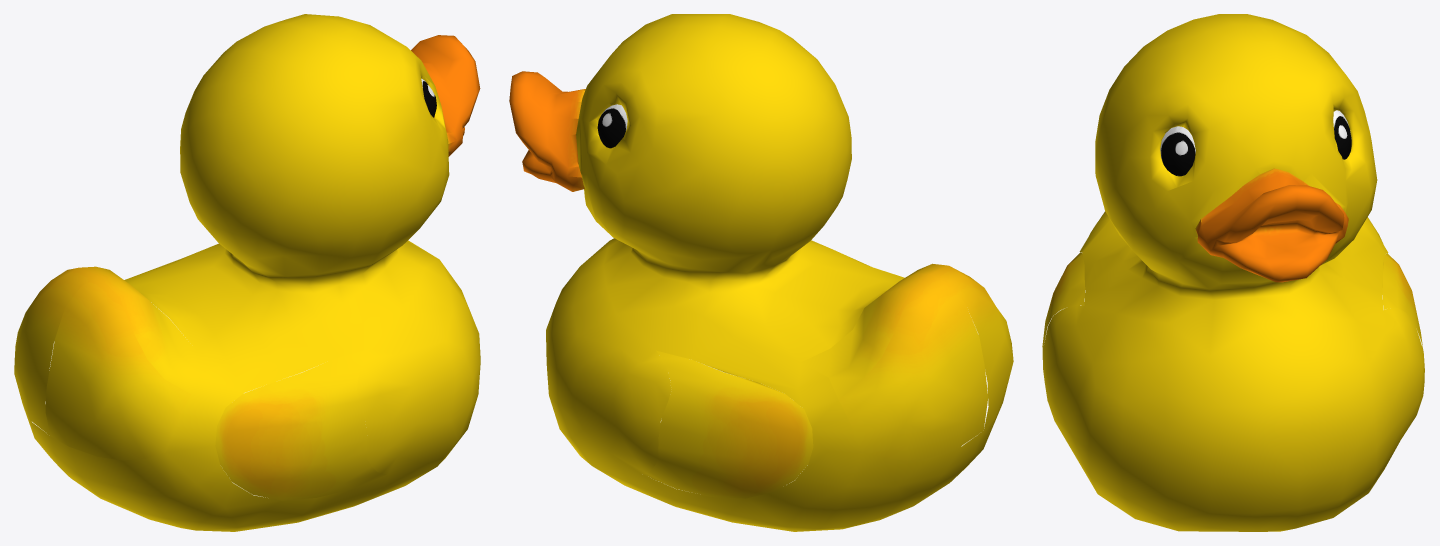
The model's file is duck.glb.
3 renders of one model, left to right at view 1: azimuth 30°, elevation 25°; view 2: azimuth 150°, elevation 25°; view 3: azimuth 270°, elevation 25°, orthographic. The views are drawn at different scales.
Visible parts, largest first — view 1: LOD3spShape; view 2: LOD3spShape; view 3: LOD3spShape.
Boxes of the visible parts, <box> form: LOD3spShape: <box>14,14,480,531</box>; LOD3spShape: <box>509,14,1013,531</box>; LOD3spShape: <box>1042,14,1424,531</box>.
Size of the model in its own units: 1.66 by 1.54 by 1.15.
Materials: 1 (1 with a texture image).
